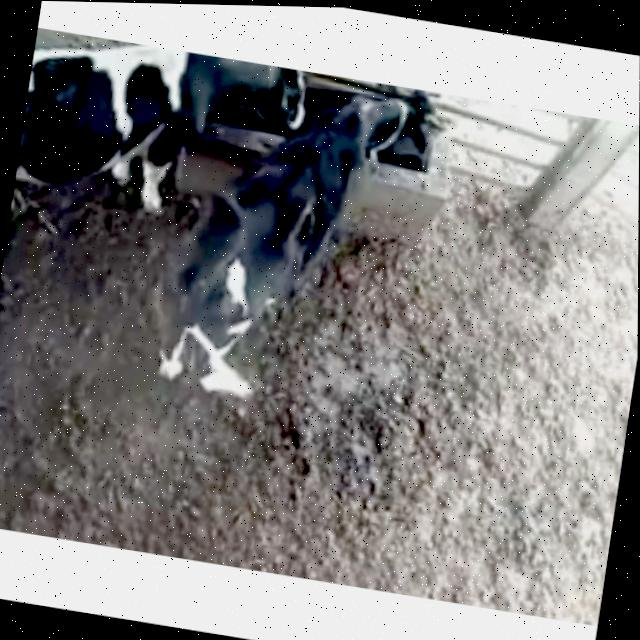drink: (302, 73, 460, 197), (168, 50, 310, 145)
